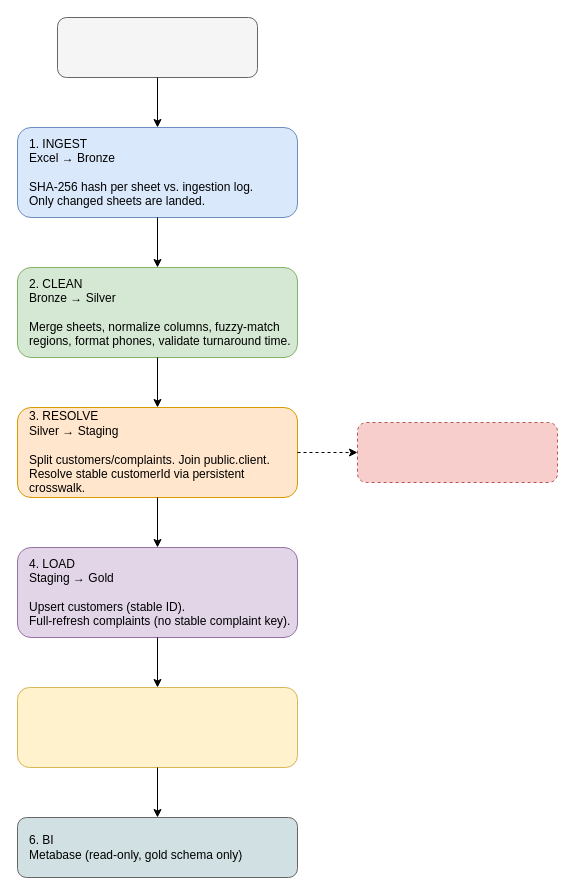
The diagram is 575 pixels wide and 895 high, and some of its shapes have lost their labels. The shapes that lost their labels are listed below. From the top down, each one's centre as x and y in pixels, then its label:
the point at 157,47: Excel Workbook (monthly sheets)
the point at 457,452: public.client (simulated upstream CRM, not owned by this pipeline)
the point at 157,727: 5. ANALYTICS (parallel) Indexes | Views | Materialized View Refresh
